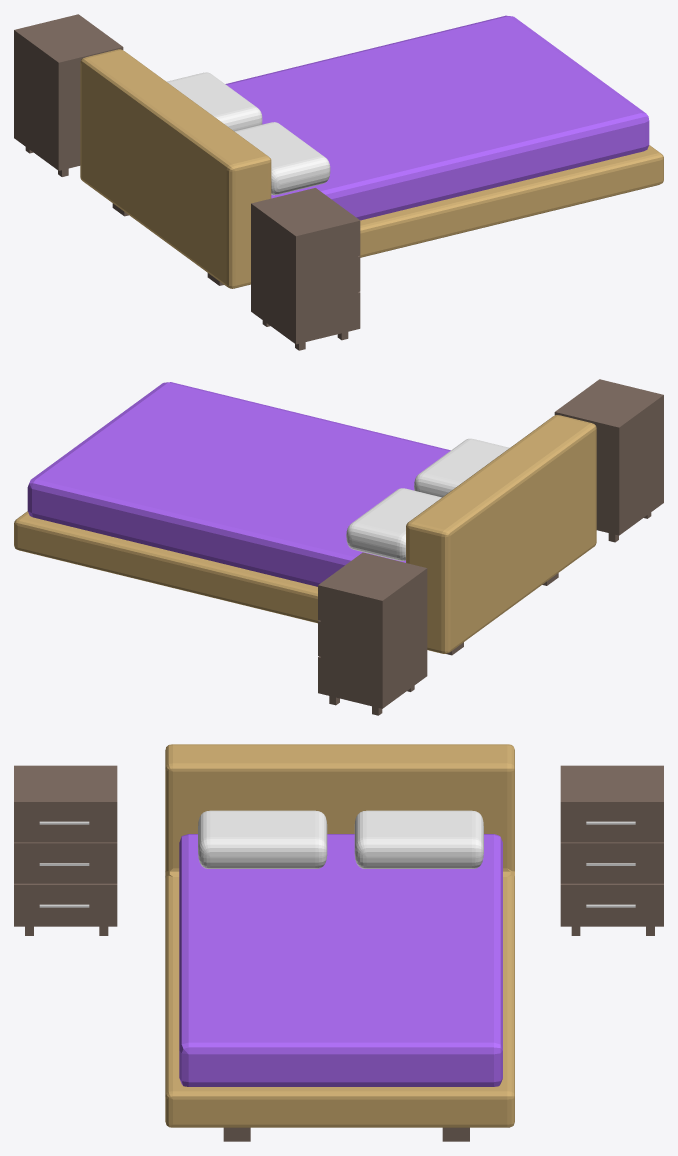
Rendered from bedset.glb.
3 views of the same model, one above another, from view 1: azimuth 30°, elevation 25°; view 2: azimuth 150°, elevation 25°; view 3: azimuth 270°, elevation 25° (orthographic). The views are drawn at different scales.
Visible parts, largest first — view 1: node-0; view 2: node-0; view 3: node-0.
Part boxes in pixels (x1,y1,x2,y2): node-0: (14, 14, 663, 350); node-0: (14, 379, 663, 715); node-0: (14, 744, 663, 1141).
Bounding box in the file's own units: 3.38 × 1.04 × 3.78.
